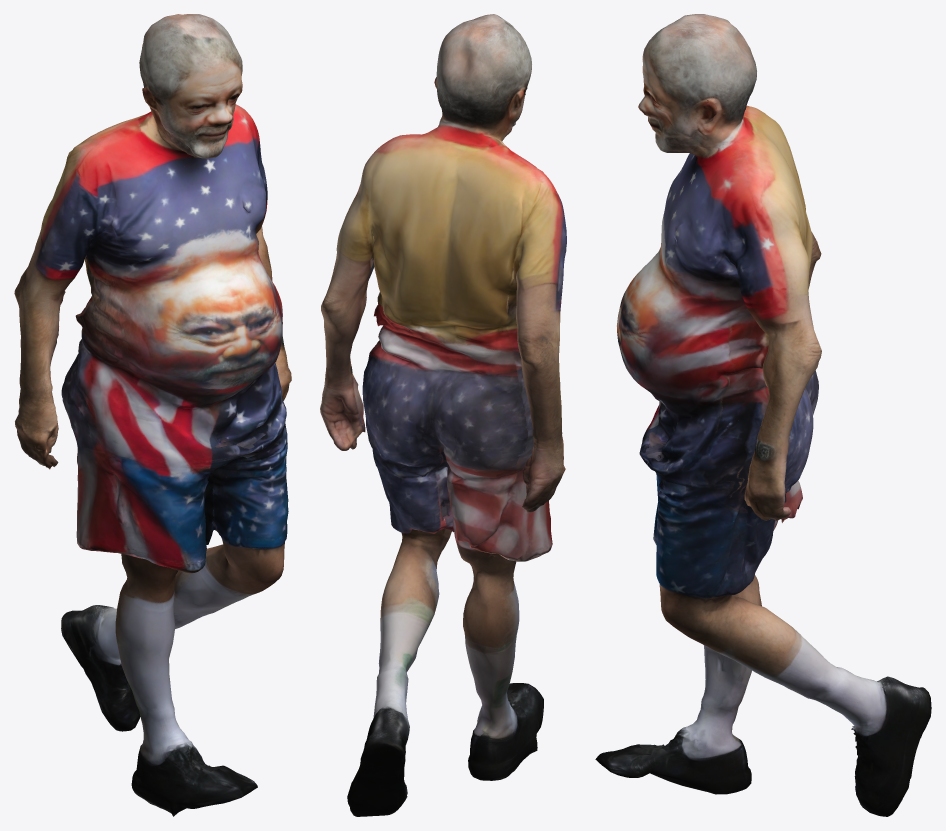
Rendered from Man_Walking_033101023_0331012751_texture.glb.
The picture shows the model from 3 angles, left to right: view 1: azimuth 30°, elevation 25°; view 2: azimuth 150°, elevation 25°; view 3: azimuth 270°, elevation 25°; orthographic projection. The views are drawn at different scales.
Bounding box in the file's own units: 0.6983 × 2 × 0.784.
Materials: 1 (1 with a texture image).
